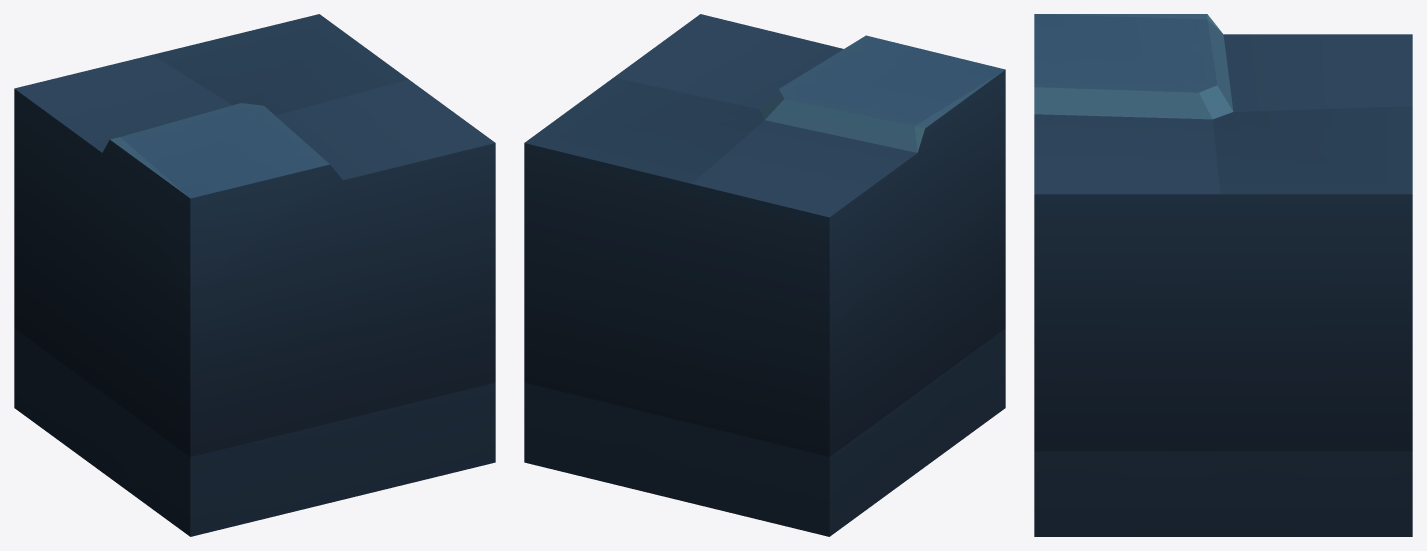
Rendered from wall_small_corner_concave.fbx.
3 views of the same model, side by side, from view 1: azimuth 30°, elevation 25°; view 2: azimuth 150°, elevation 25°; view 3: azimuth 270°, elevation 25° (orthographic). The views are drawn at different scales.
Visible parts, largest first — view 1: wall_small_corner_concave; view 2: wall_small_corner_concave; view 3: wall_small_corner_concave.
Part boxes in pixels (bbox=[...]): wall_small_corner_concave: bbox=[14, 14, 495, 536]; wall_small_corner_concave: bbox=[524, 14, 1005, 536]; wall_small_corner_concave: bbox=[1034, 14, 1412, 536].
Bounding box in the file's own units: 100 × 106 × 100.
